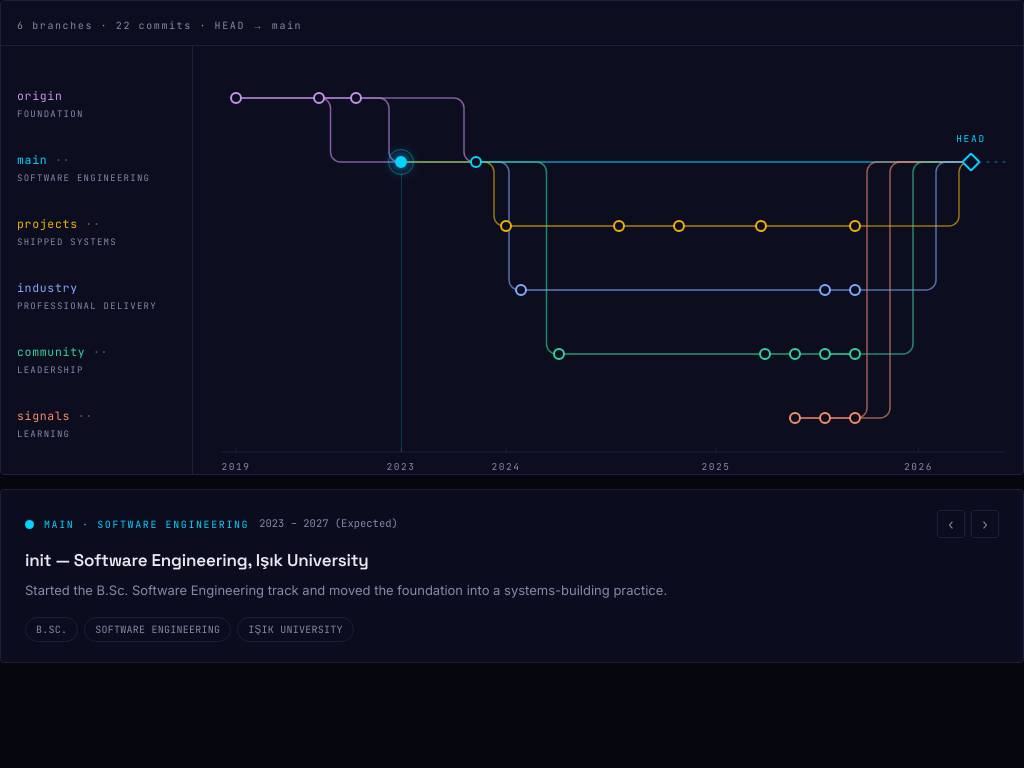
Scenario: CareerMap › shows the first node's story and advances with the stepper
Check: the heading "init — Software Engineering, Işık University" is shown, box [25,549,369,571]
Click the button named "Next entry".
click(985, 524)  # box [971,510,999,538]
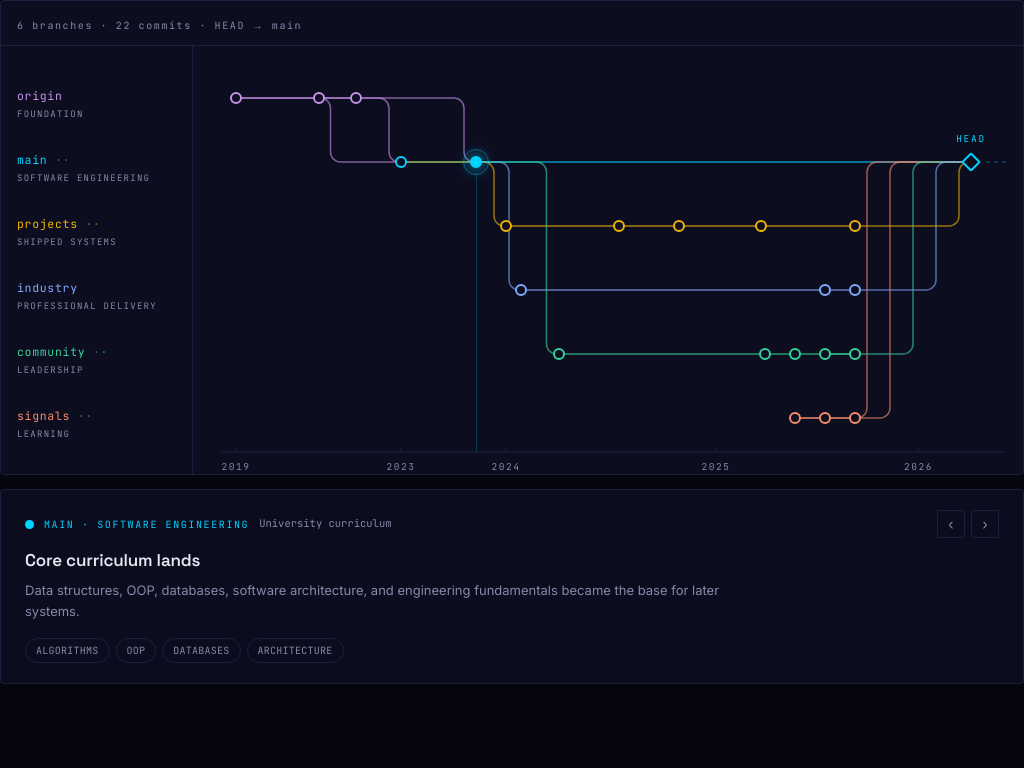
Check: the heading "Core curriculum lands" is shown, box [25,549,200,571]
